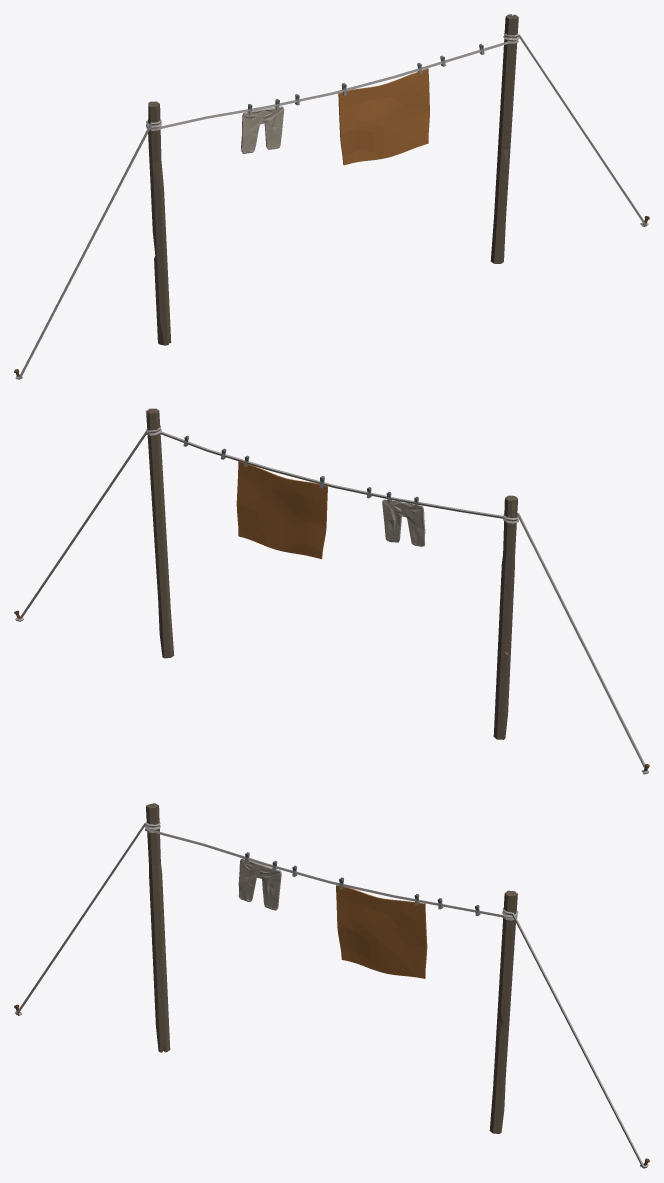
File: SM_Props_Farm_Clothesline_02.fbx
3 renders of one model, top to bottom at view 1: azimuth 30°, elevation 25°; view 2: azimuth 150°, elevation 25°; view 3: azimuth 330°, elevation 25°, orthographic.
Parts seen in each view (by area): view 1: SM_Props_Farm_Clothesline_02; view 2: SM_Props_Farm_Clothesline_02; view 3: SM_Props_Farm_Clothesline_02.
Boxes of the visible parts, x1,y1,x2,y2 form: SM_Props_Farm_Clothesline_02: [14, 14, 649, 379]; SM_Props_Farm_Clothesline_02: [14, 408, 649, 774]; SM_Props_Farm_Clothesline_02: [14, 803, 649, 1168].
Bounding box in the file's own units: 668 × 244 × 15.27.
